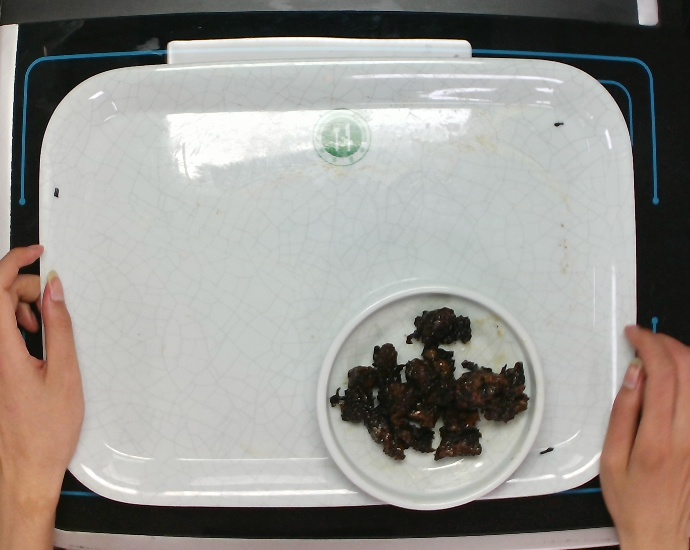JYsf-Xiao_Yuan_Pan: (314, 276, 549, 515)
